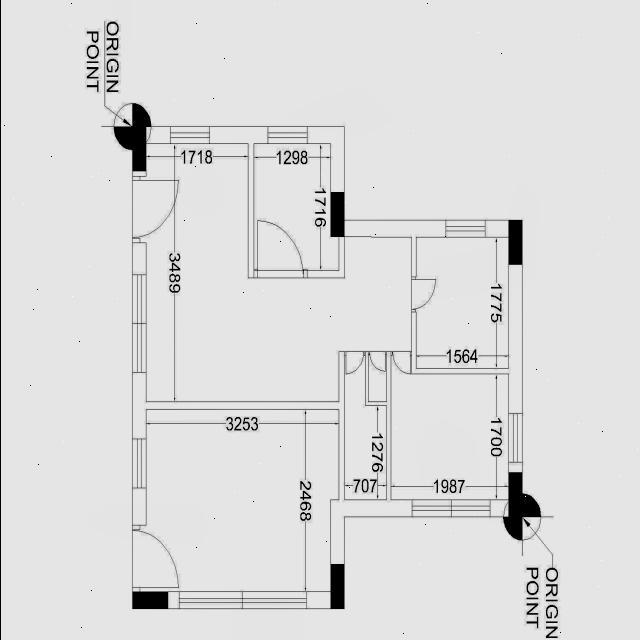Column: (329, 564, 344, 609), (329, 192, 344, 237), (132, 592, 168, 610), (508, 219, 522, 265), (508, 472, 522, 517), (132, 127, 146, 171)
Door: (129, 173, 181, 241), (130, 521, 182, 589), (255, 218, 308, 280), (408, 275, 436, 315), (343, 349, 364, 376), (390, 351, 410, 376), (368, 351, 386, 374)
Window: (177, 590, 306, 612), (129, 271, 147, 376), (409, 498, 491, 520), (264, 123, 309, 147), (167, 124, 211, 148), (130, 436, 148, 491), (442, 218, 487, 240), (507, 412, 522, 464)
